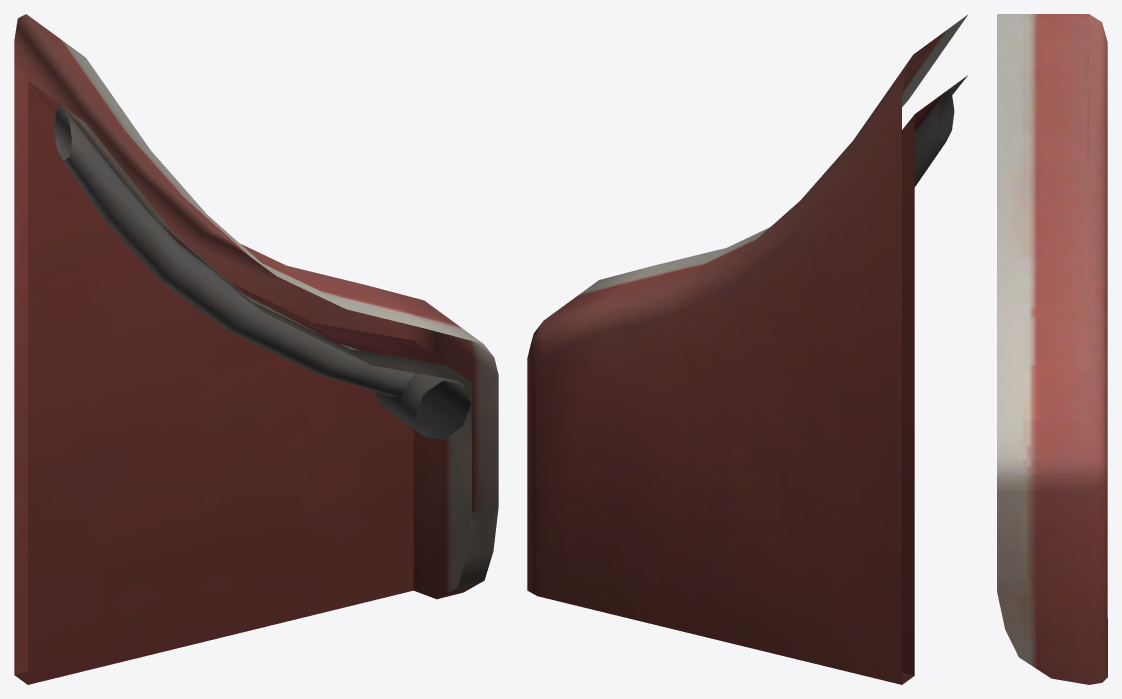
Rendered from awning_end.glb.
The picture shows the model from 3 angles, left to right: view 1: azimuth 30°, elevation 25°; view 2: azimuth 150°, elevation 25°; view 3: azimuth 270°, elevation 25°; orthographic projection. The views are drawn at different scales.
Parts seen in each view (by area): view 1: awning_end; view 2: awning_end; view 3: awning_end.
Part boxes in pixels (x1,y1,x2,y2): awning_end: (14, 14, 498, 684); awning_end: (527, 15, 967, 684); awning_end: (997, 14, 1107, 684).
Size of the model in its own units: 0.762 by 1.18 by 0.23.
1 material, 1 textured.
